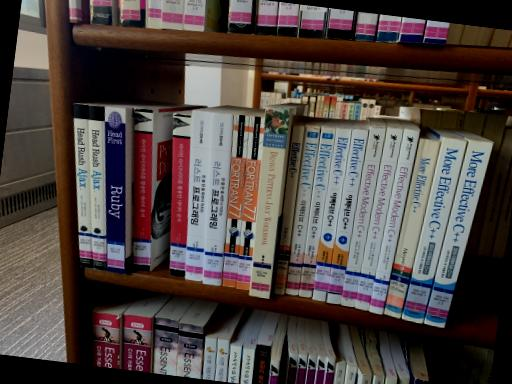book-spine: (424, 139, 493, 328), (402, 137, 467, 323), (384, 139, 441, 318), (369, 129, 420, 314), (355, 127, 403, 311), (341, 126, 386, 307), (249, 106, 290, 297), (326, 128, 369, 305), (311, 126, 352, 301), (300, 127, 336, 297), (285, 126, 321, 295), (273, 125, 305, 295), (203, 112, 234, 285), (236, 115, 265, 289), (185, 110, 213, 280), (222, 114, 249, 287), (169, 113, 192, 276), (104, 107, 126, 274), (72, 103, 92, 267), (134, 108, 154, 272), (88, 105, 106, 270)
